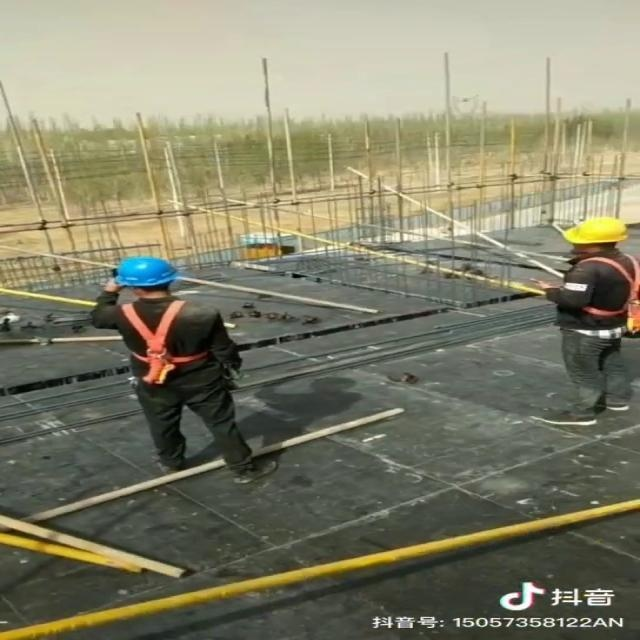Arnes_seguridad: (94, 299, 226, 386), (546, 252, 639, 339)
